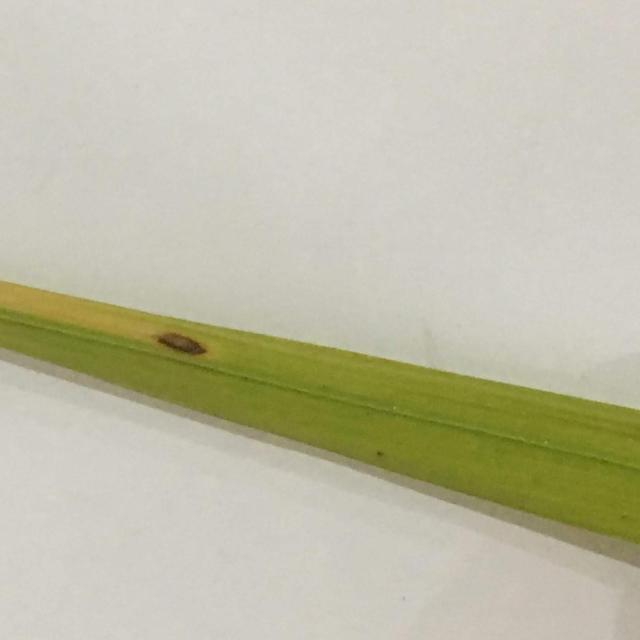Leaf blast: (0, 257, 640, 590)
